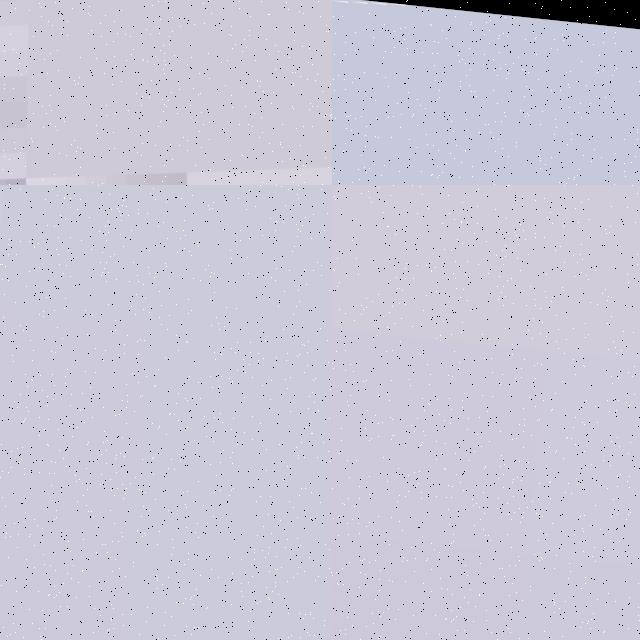drone: (0, 0, 332, 185), (332, 0, 640, 52)
